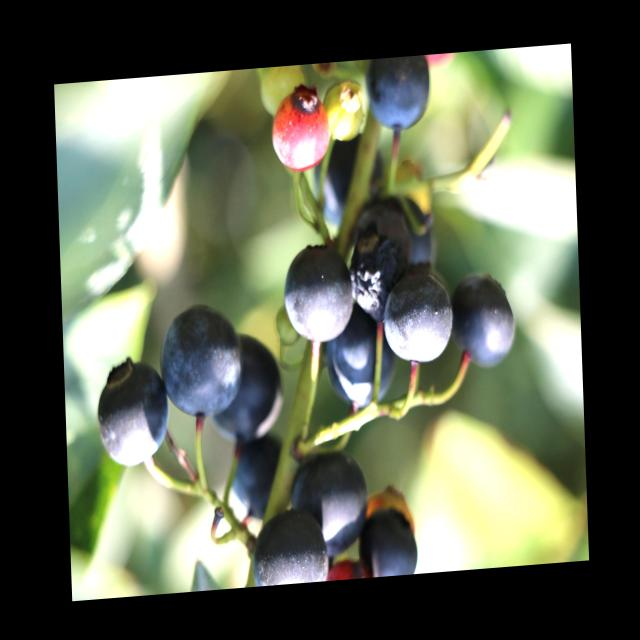blueberry: (155, 296, 247, 429), (283, 445, 375, 569), (202, 329, 288, 457), (91, 346, 171, 475), (278, 229, 358, 349), (306, 127, 392, 238), (322, 300, 401, 418), (378, 261, 462, 371), (443, 265, 524, 377), (218, 420, 298, 530), (245, 501, 335, 587), (360, 56, 435, 142), (354, 202, 437, 279), (353, 500, 422, 579), (348, 234, 403, 330)
blueberry-halfripe: (272, 92, 329, 172)
blueberry-unripe: (326, 74, 369, 150)
